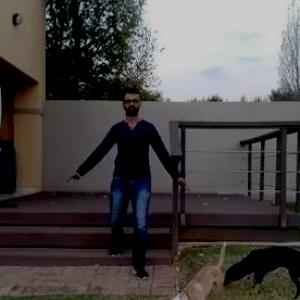land: (87, 97, 176, 263)
